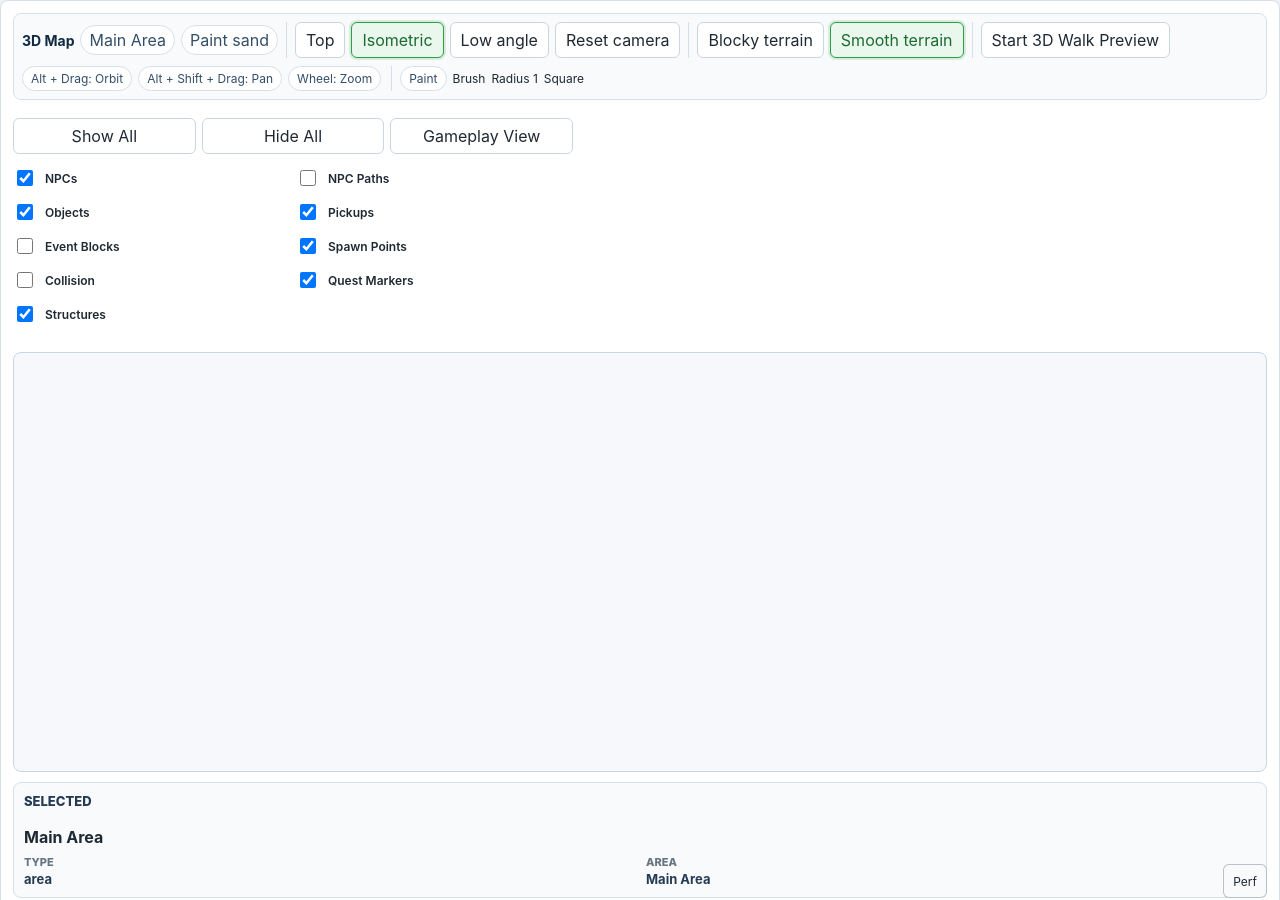
Test case: ThreeDPreview › paints selected terrain in 3D without resetting height
Check: the text "Paint sand" is shown, box 181,25 -> 278,55
Check: the element named "3D terrain brush controls" is shown, box 391,66 -> 584,91
Step 1. Press the mouse on the drawing → x=640, y=562, box 14,353 -> 1266,771
(page scrolled)
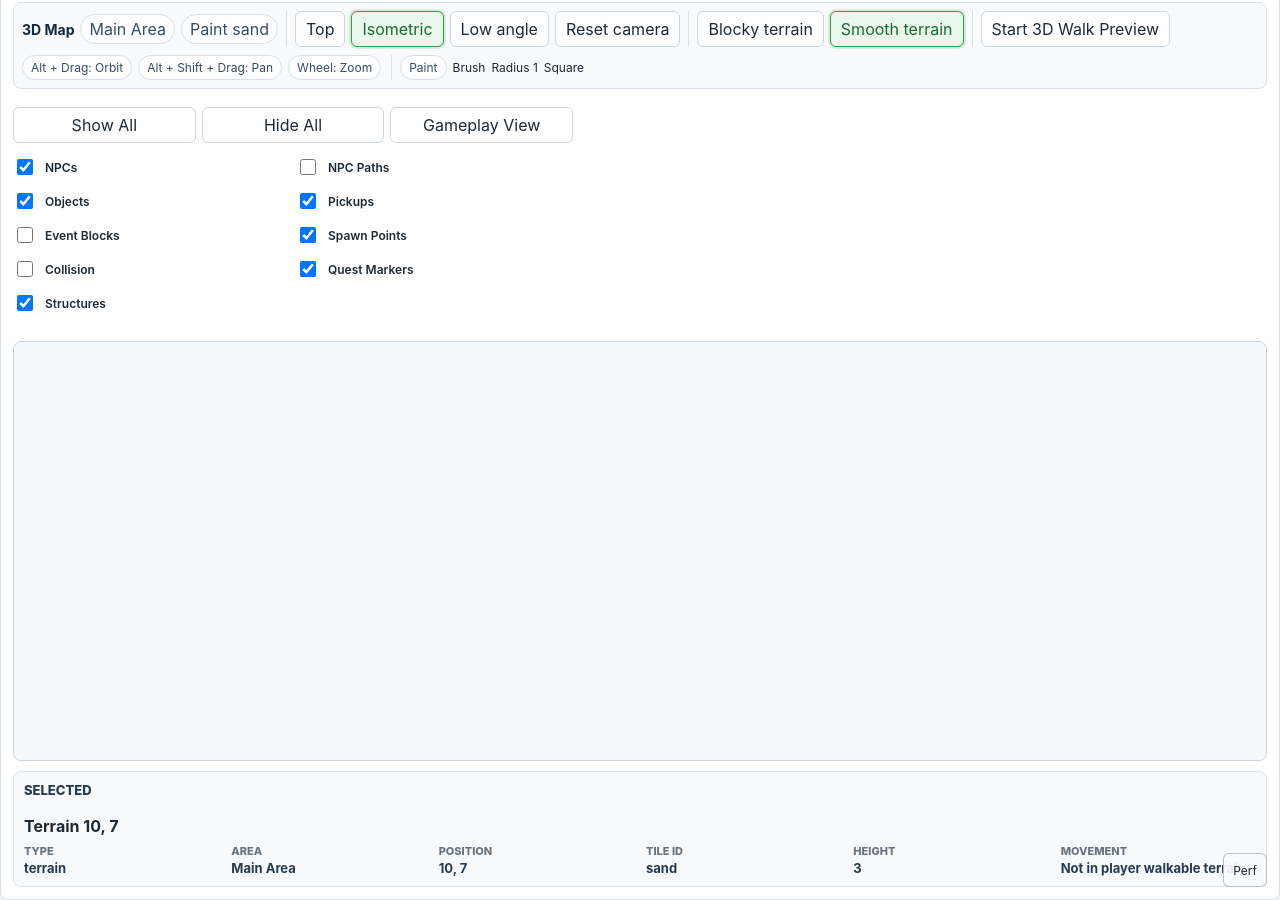
Check: the text "sand" is shown, box 646,860 -> 677,876
